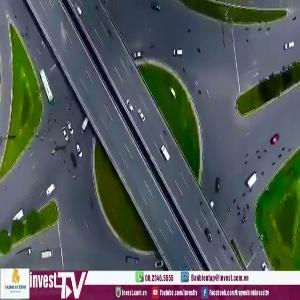drone: (39, 126, 82, 169)
